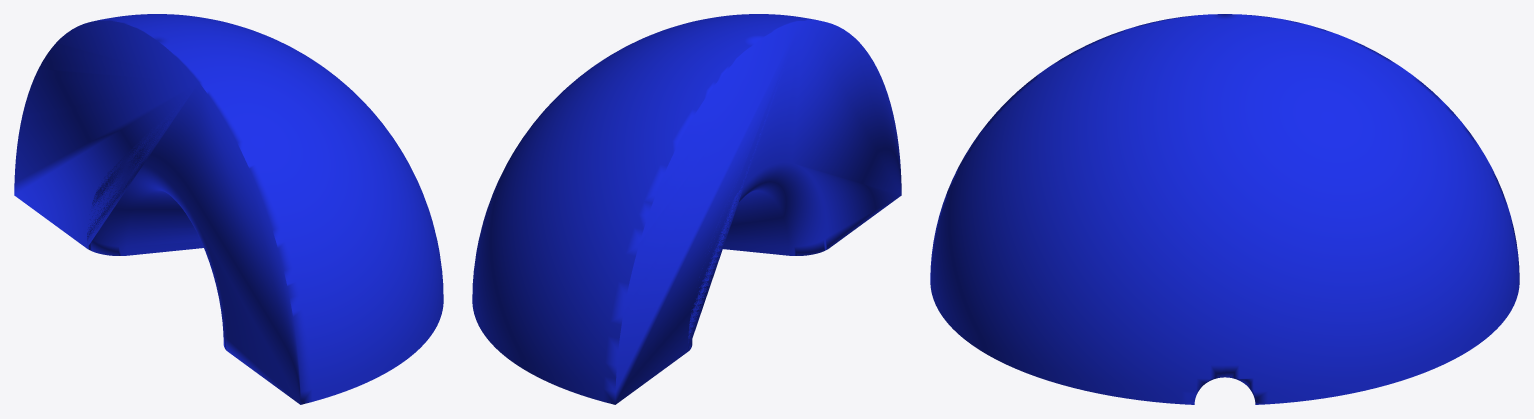
The model's file is Emotion.fbx.
3 views of the same model, side by side, from view 1: azimuth 30°, elevation 25°; view 2: azimuth 150°, elevation 25°; view 3: azimuth 270°, elevation 25° (orthographic). The views are drawn at different scales.
Parts seen in each view (by area): view 1: Emotion; view 2: Emotion; view 3: Emotion.
Boxes of the visible parts, box(x1,y1,x2,y2) form: Emotion: box(14, 14, 443, 404); Emotion: box(472, 14, 901, 404); Emotion: box(930, 14, 1519, 404).
Size of the model in its own units: 2295 by 2308 by 4615.
